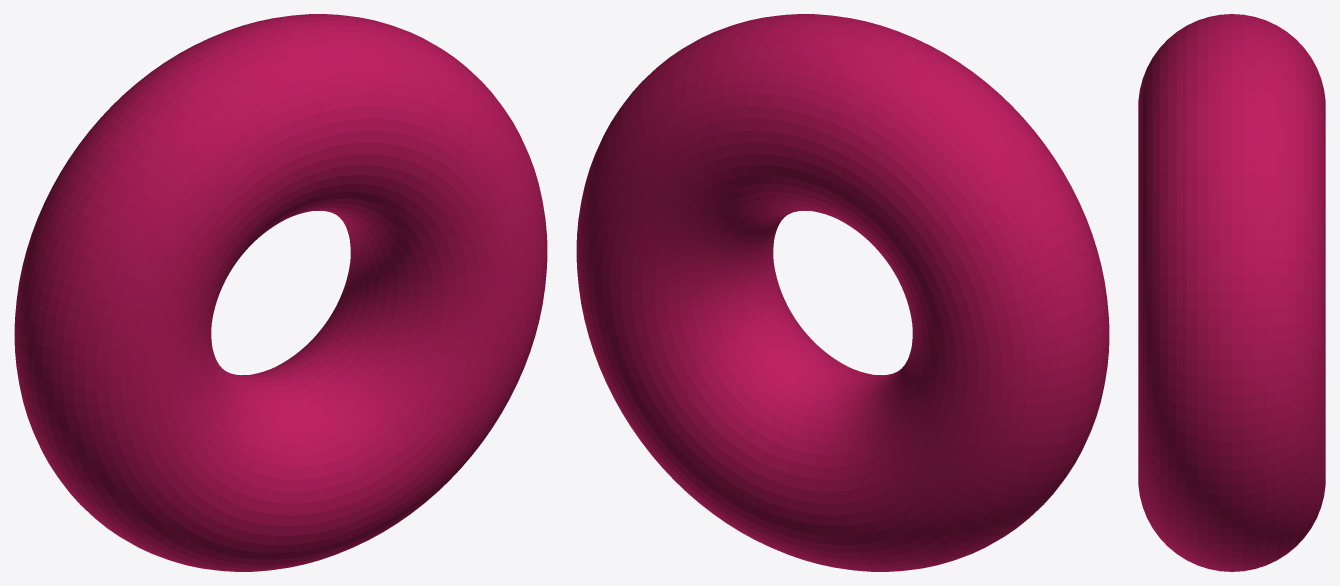
3 views of the same model, side by side, from view 1: azimuth 30°, elevation 25°; view 2: azimuth 150°, elevation 25°; view 3: azimuth 270°, elevation 25° (orthographic). The views are drawn at different scales.
Parts seen in each view (by area): view 1: world; view 2: world; view 3: world.
Boxes of the visible parts, x1,y1,x2,y2 form: world: (14, 14, 547, 571); world: (576, 14, 1109, 571); world: (1138, 14, 1325, 571).
Bounding box in the file's own units: 28.13 × 28.13 × 9.45.
